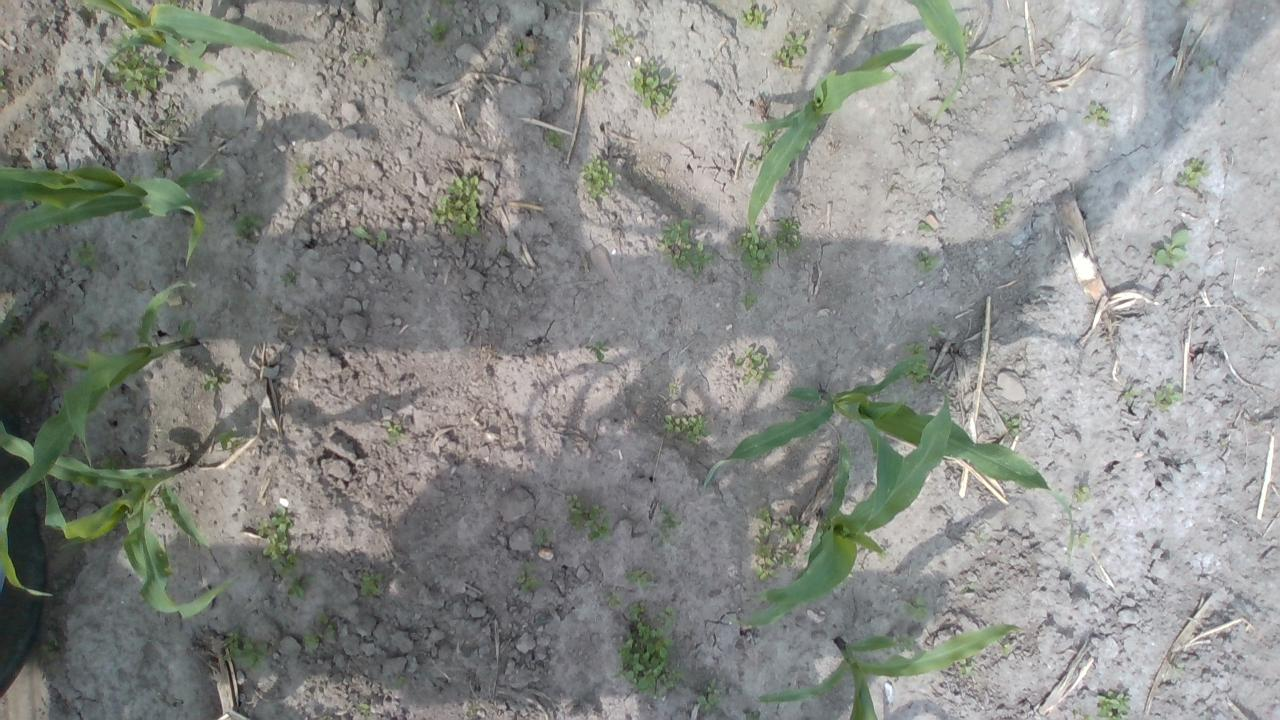Maize: (701, 352, 1073, 558), (0, 281, 198, 605), (733, 371, 951, 629), (0, 420, 232, 618), (744, 44, 936, 246), (761, 622, 1022, 720), (0, 163, 224, 270), (80, 0, 294, 76), (906, 0, 971, 125)
Weeds: (612, 603, 685, 702), (750, 508, 809, 580), (108, 31, 166, 96), (431, 172, 485, 240), (659, 216, 716, 272), (628, 60, 676, 120), (258, 504, 296, 577), (733, 223, 779, 281), (223, 624, 267, 672), (579, 151, 617, 199), (663, 413, 714, 446), (734, 346, 774, 384), (1154, 230, 1190, 268), (771, 32, 806, 68), (1178, 156, 1210, 190), (776, 216, 804, 253), (584, 503, 611, 540), (1096, 690, 1129, 720), (288, 574, 322, 602), (232, 212, 264, 240), (580, 62, 606, 96), (740, 0, 766, 33), (696, 680, 721, 714), (70, 240, 100, 268), (1154, 382, 1180, 414), (360, 570, 386, 599), (422, 19, 448, 48), (608, 25, 632, 54), (625, 568, 656, 590), (992, 196, 1014, 227), (566, 494, 586, 528), (1084, 104, 1112, 128), (354, 226, 388, 244), (514, 573, 544, 593), (934, 40, 958, 65), (906, 597, 928, 622), (185, 37, 211, 58), (200, 372, 228, 391), (917, 250, 939, 272), (758, 128, 776, 154), (175, 318, 195, 340), (217, 430, 240, 449), (904, 366, 929, 383), (902, 342, 927, 359), (897, 630, 918, 650), (162, 547, 176, 576), (97, 328, 122, 344), (532, 526, 554, 544), (1004, 414, 1022, 436), (958, 656, 976, 678), (386, 424, 406, 443), (660, 512, 681, 530), (96, 455, 120, 470), (1070, 532, 1089, 550), (593, 340, 607, 364), (1198, 58, 1218, 74), (606, 592, 622, 612), (544, 130, 564, 146), (294, 158, 310, 178), (1072, 486, 1090, 503), (302, 631, 318, 649), (1122, 384, 1140, 400), (280, 270, 296, 288), (353, 48, 371, 64), (31, 367, 50, 382), (152, 155, 166, 175), (393, 670, 407, 690), (928, 323, 946, 337), (512, 42, 530, 56), (962, 29, 972, 54), (742, 292, 759, 306), (1009, 48, 1021, 64), (357, 701, 370, 715), (0, 64, 7, 88), (975, 531, 987, 545), (316, 612, 329, 624), (744, 710, 759, 720), (1001, 642, 1012, 655), (1175, 662, 1186, 674), (669, 382, 680, 392), (918, 221, 929, 231), (1183, 0, 1199, 6), (879, 550, 886, 560), (321, 715, 334, 720), (1084, 714, 1093, 720)
